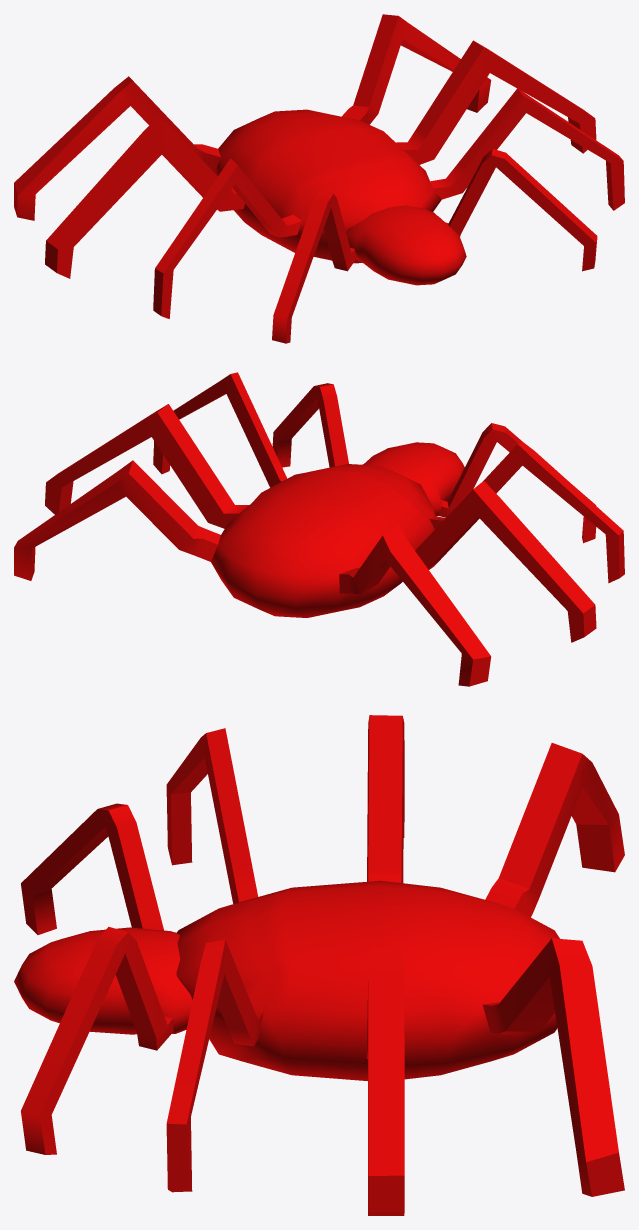
File: spider_v2.fbx
The picture shows the model from 3 angles, top to bottom: view 1: azimuth 30°, elevation 25°; view 2: azimuth 150°, elevation 25°; view 3: azimuth 270°, elevation 25°; orthographic projection. The views are drawn at different scales.
Parts seen in each view (by area): view 1: pCube1, pCube2; view 2: pCube1, pCube2; view 3: pCube1, pCube2.
Part boxes in pixels (x1,y1,x2,y2): pCube1: (14,14,624,318); pCube2: (272,148,597,343); pCube1: (14,372,624,686); pCube2: (272,383,596,543); pCube1: (166,715,624,1215); pCube2: (14,803,192,1154).
Bounding box in the file's own units: 6.64 × 1.76 × 4.31.
